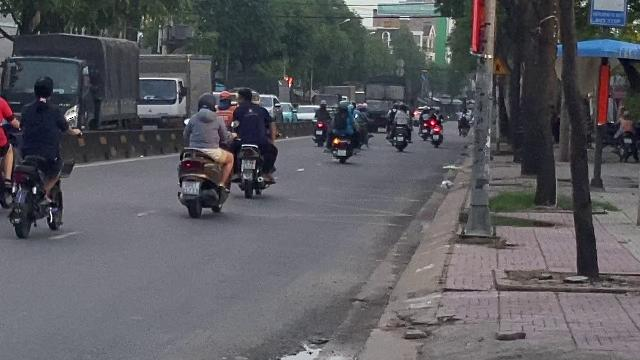helmet: (194, 92, 216, 112), (250, 89, 260, 103)
licenseplate: (182, 181, 198, 193), (240, 160, 256, 168)
motorcyclist: (4, 74, 76, 238), (173, 90, 233, 218), (229, 86, 279, 198)
nohelmet: (31, 76, 55, 100), (234, 86, 252, 103)
